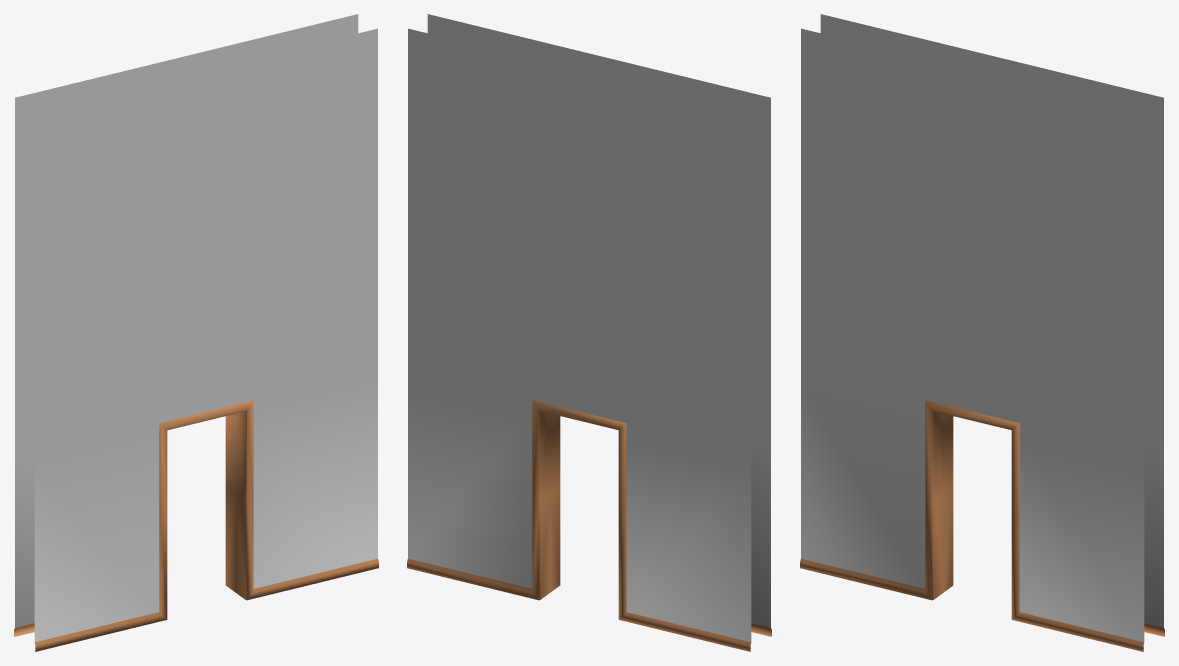
The model's file is wall_doorframe1.fbx.
3 views of the same model, side by side, from view 1: azimuth 30°, elevation 25°; view 2: azimuth 150°, elevation 25°; view 3: azimuth 330°, elevation 25° (orthographic).
Parts seen in each view (by area): view 1: Cube.009; view 2: Cube.009; view 3: Cube.009.
Boxes of the visible parts, x1,y1,x2,y2 form: Cube.009: (14,14,378,651); Cube.009: (407,14,771,651); Cube.009: (800,14,1164,651).
Size of the model in its own units: 400 by 600 by 43.2.
